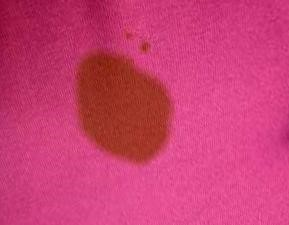stain: (74, 46, 179, 165), (138, 42, 153, 54), (125, 28, 137, 41)
